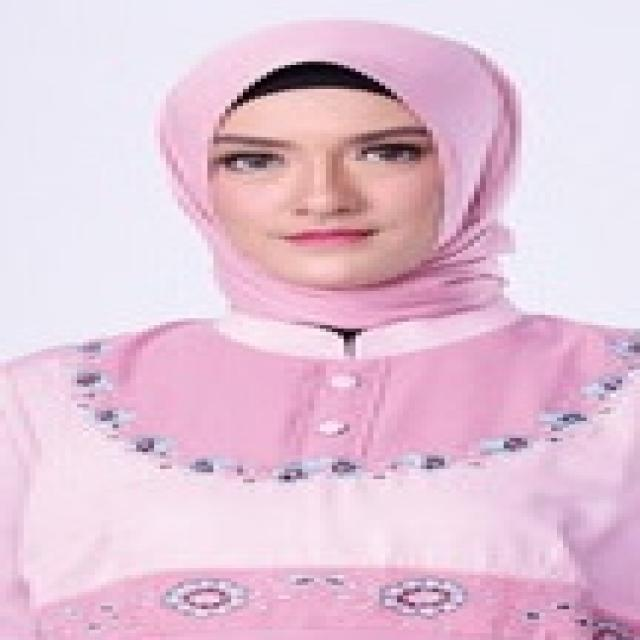head: (175, 19, 514, 305)
